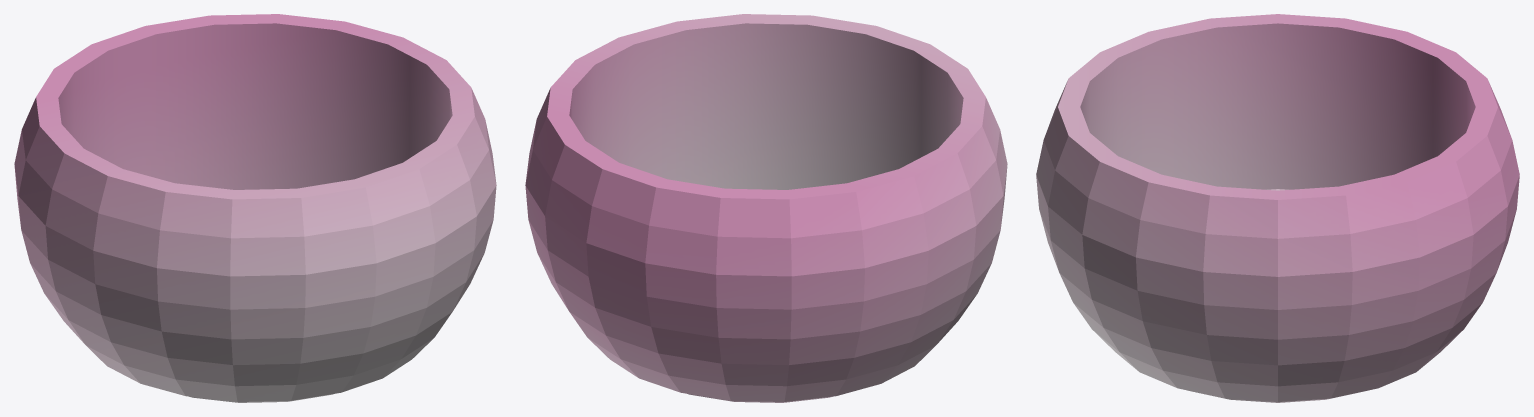
File: PlantPot_22.fbx
3 renders of one model, left to right at view 1: azimuth 30°, elevation 25°; view 2: azimuth 150°, elevation 25°; view 3: azimuth 270°, elevation 25°, orthographic.
Visible parts, largest first — view 1: PlantPot_22; view 2: PlantPot_22; view 3: PlantPot_22.
Boxes of the visible parts, x1,y1,x2,y2 form: PlantPot_22: [14, 14, 496, 402]; PlantPot_22: [525, 14, 1007, 402]; PlantPot_22: [1036, 14, 1519, 402].
Size of the model in its own units: 20.33 by 10.7 by 20.33.
